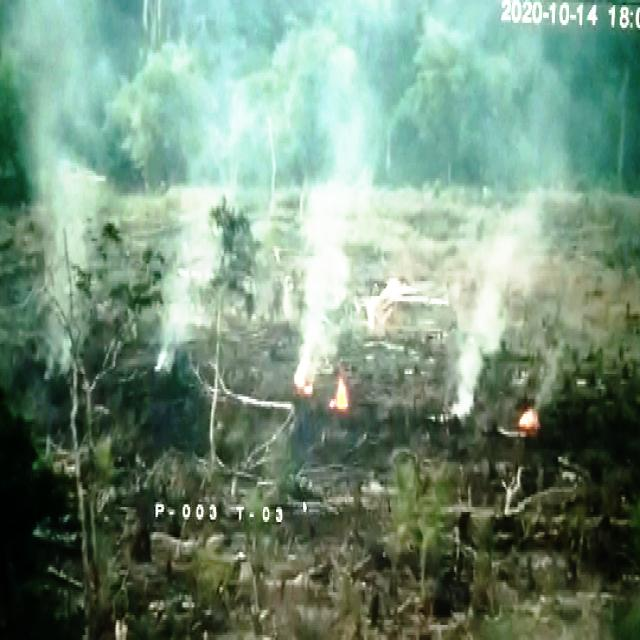asap: (10, 1, 120, 410), (287, 19, 376, 403), (152, 169, 220, 390), (441, 265, 517, 435)
